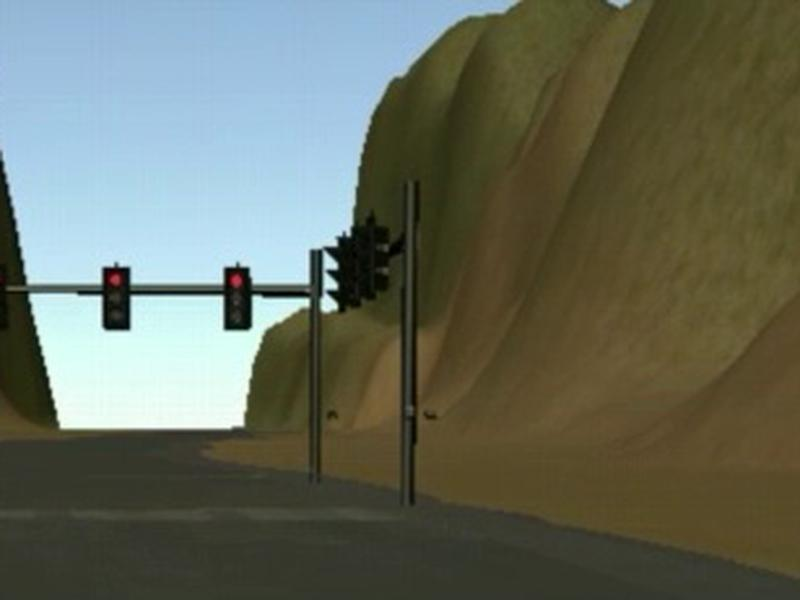Red: (101, 265, 130, 331), (223, 267, 253, 330)
